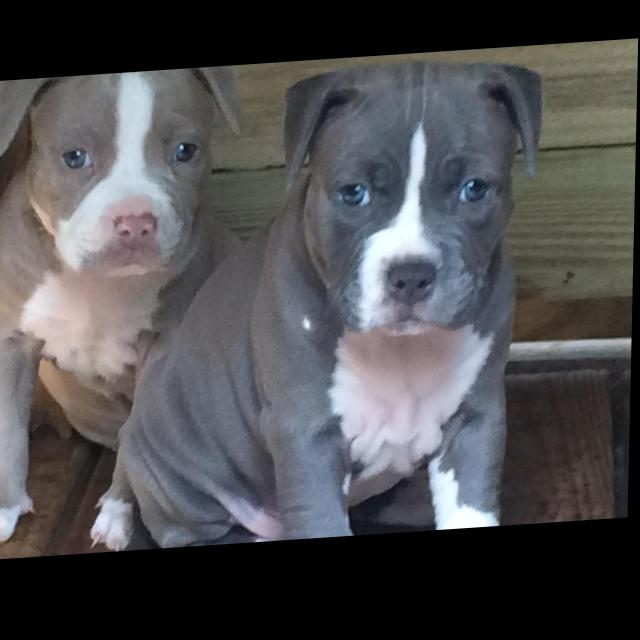am_pit_bull_terrier: (1, 59, 545, 560), (1, 69, 247, 556)
